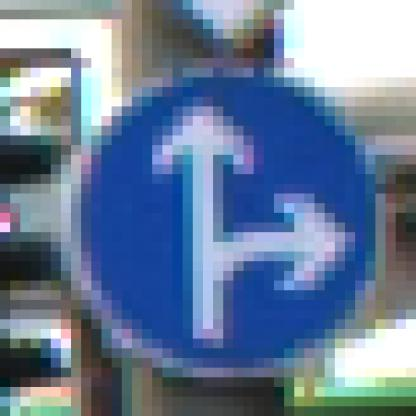Straight or Right: (62, 59, 356, 369)
